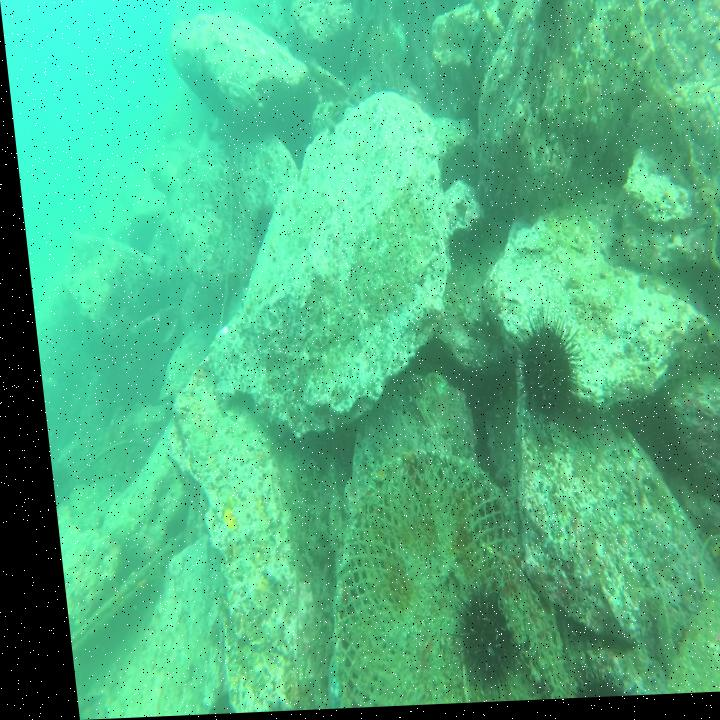echinus: (498, 308, 583, 439), (430, 587, 509, 701), (552, 662, 622, 703), (238, 200, 274, 253), (363, 28, 390, 68)
